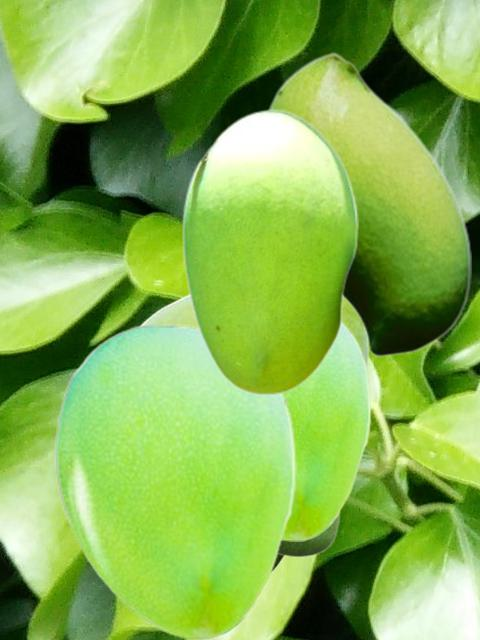green_mango: (53, 323, 295, 638), (265, 51, 470, 356), (181, 108, 357, 394), (138, 292, 286, 575), (279, 301, 369, 557), (283, 319, 370, 540)
